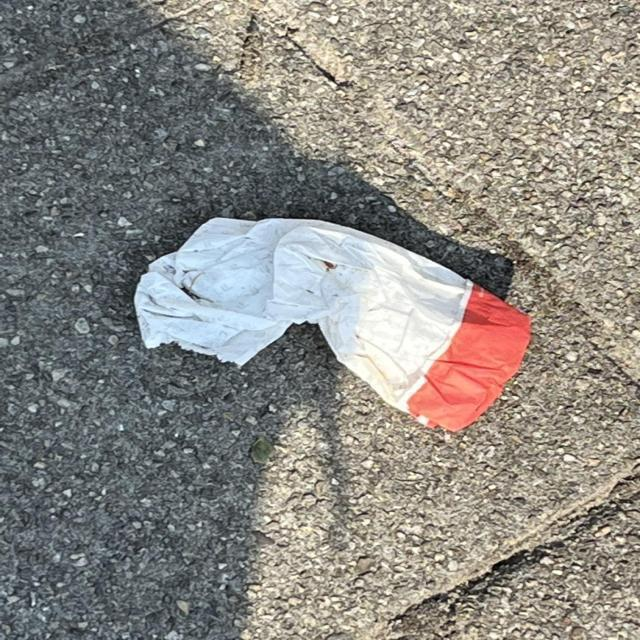Paper: (131, 215, 535, 436)
